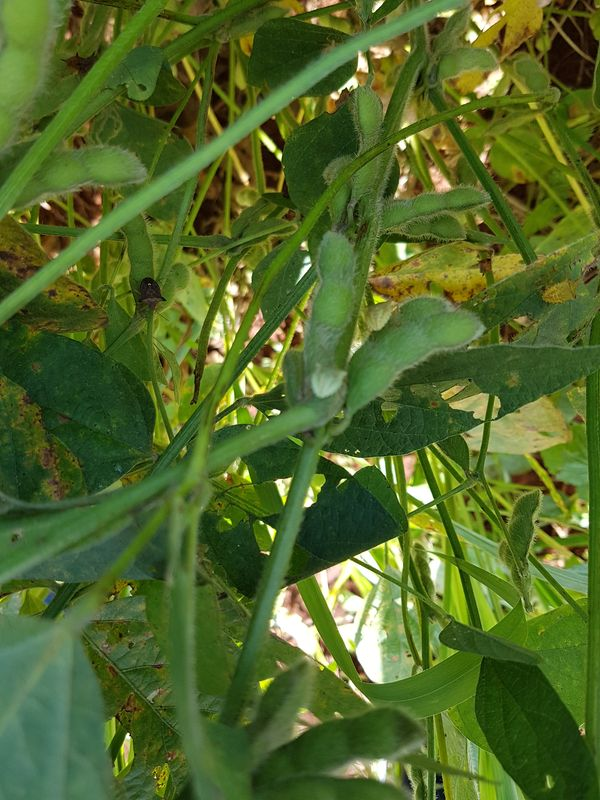Euschistus_heros_adulto: (124, 270, 171, 317)
